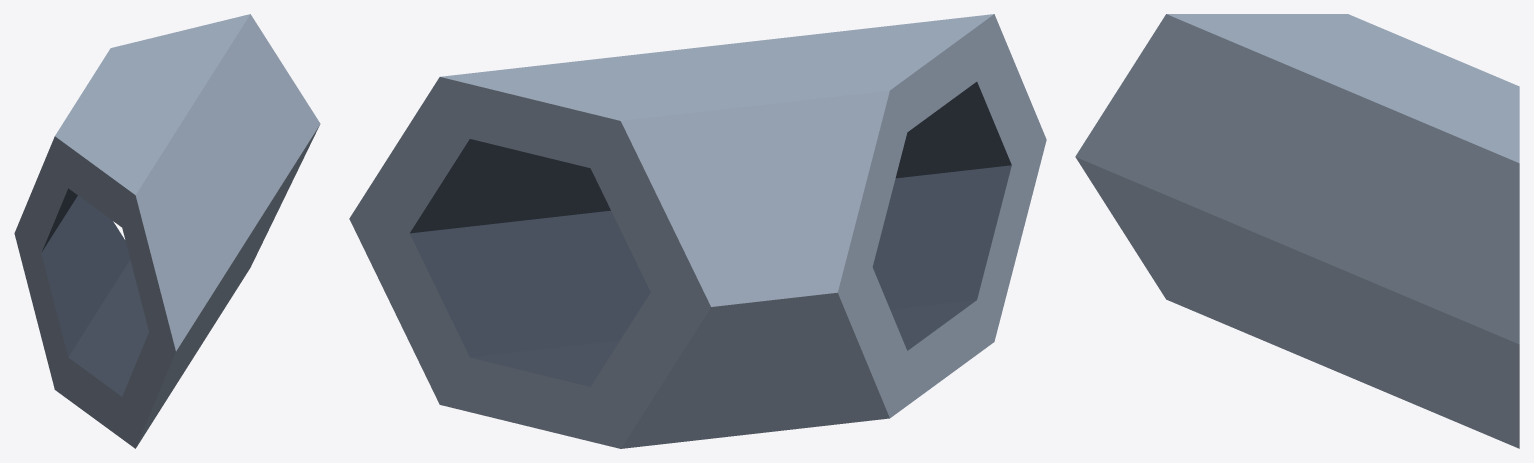
The model's file is pipe_cornerDiagonal.glb.
The picture shows the model from 3 angles, left to right: view 1: azimuth 30°, elevation 25°; view 2: azimuth 150°, elevation 25°; view 3: azimuth 270°, elevation 25°; orthographic projection. The views are drawn at different scales.
Visible parts, largest first — view 1: pipe_cornerDiagonal; view 2: pipe_cornerDiagonal; view 3: pipe_cornerDiagonal.
Part boxes in pixels (bbox=[...]): pipe_cornerDiagonal: bbox=[14, 14, 320, 448]; pipe_cornerDiagonal: bbox=[349, 14, 1046, 448]; pipe_cornerDiagonal: bbox=[1075, 14, 1519, 448].
Bounding box in the file's own units: 0.8464 × 0.6 × 0.8464.
